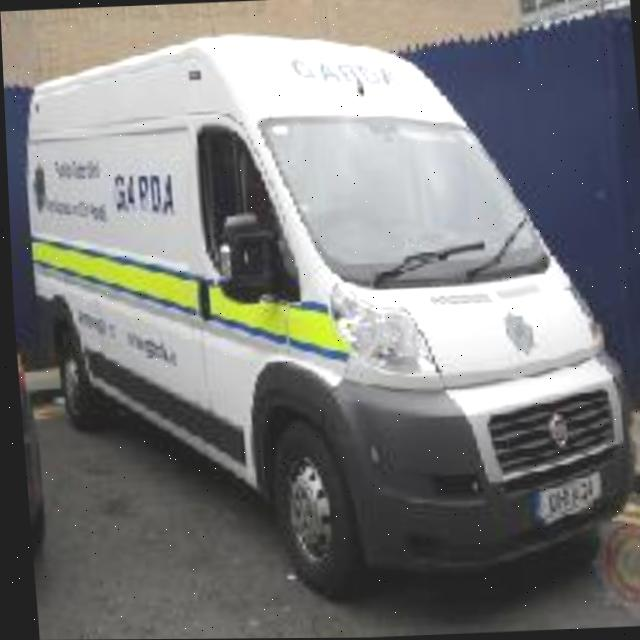emergency: (22, 40, 640, 588)
